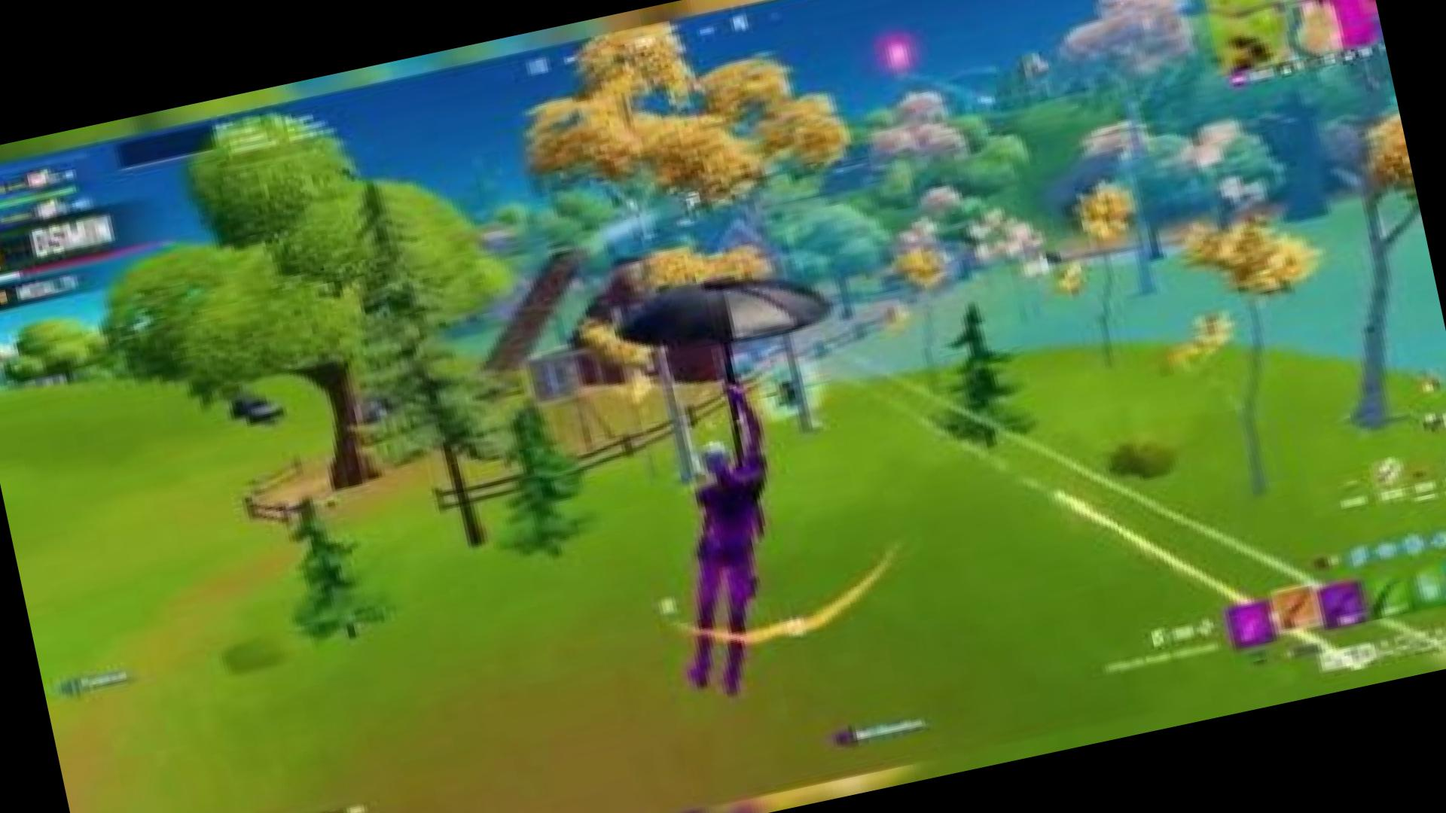player: (611, 419, 911, 729)
